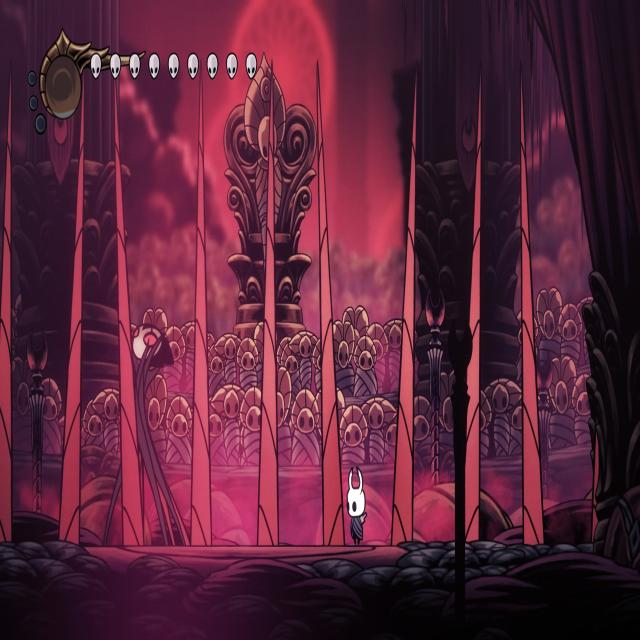Grimm: (110, 317, 187, 542)
Player: (344, 461, 369, 547)
Spikes: (520, 122, 550, 547), (58, 123, 85, 546), (320, 122, 346, 547), (255, 107, 280, 548), (118, 138, 144, 546), (391, 107, 414, 543), (190, 93, 212, 546), (463, 124, 481, 542), (0, 110, 14, 540)
